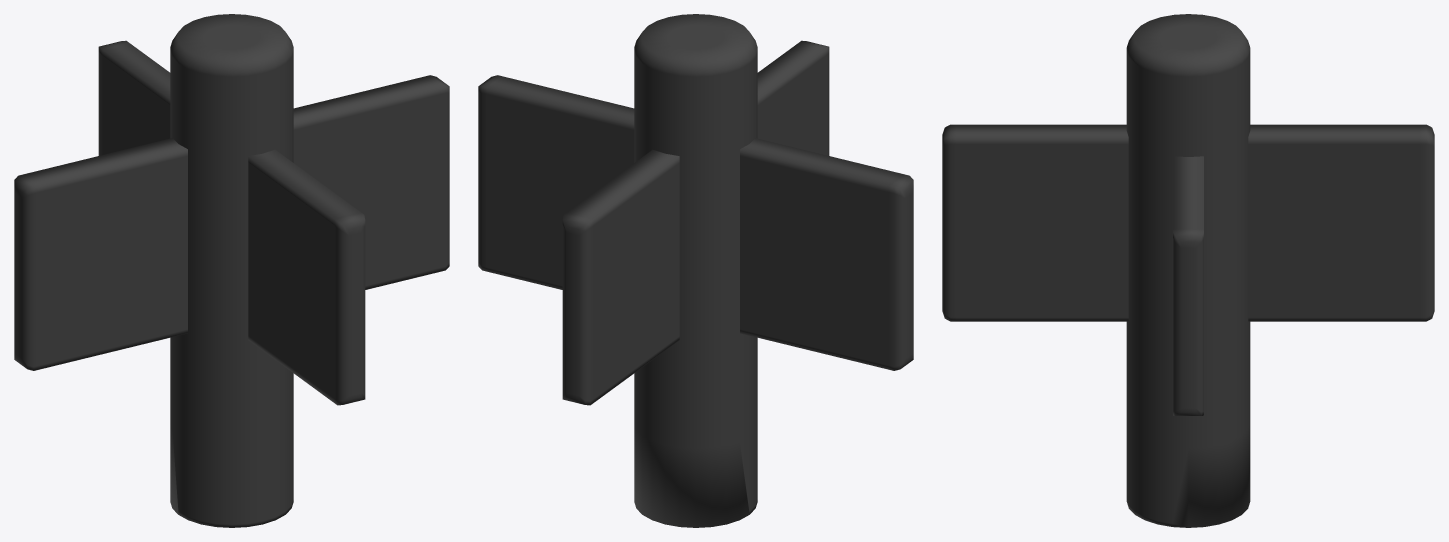
The model's file is Map_BottomPan.fbx.
3 renders of one model, left to right at view 1: azimuth 30°, elevation 25°; view 2: azimuth 150°, elevation 25°; view 3: azimuth 270°, elevation 25°, orthographic.
Parts seen in each view (by area): view 1: BottomPan; view 2: BottomPan; view 3: BottomPan.
Part boxes in pixels (left/top/right/bottom): BottomPan: left=14, top=14, right=449, bottom=527; BottomPan: left=478, top=14, right=913, bottom=527; BottomPan: left=942, top=14, right=1434, bottom=527.
Size of the model in its own units: 591 by 615 by 591.
